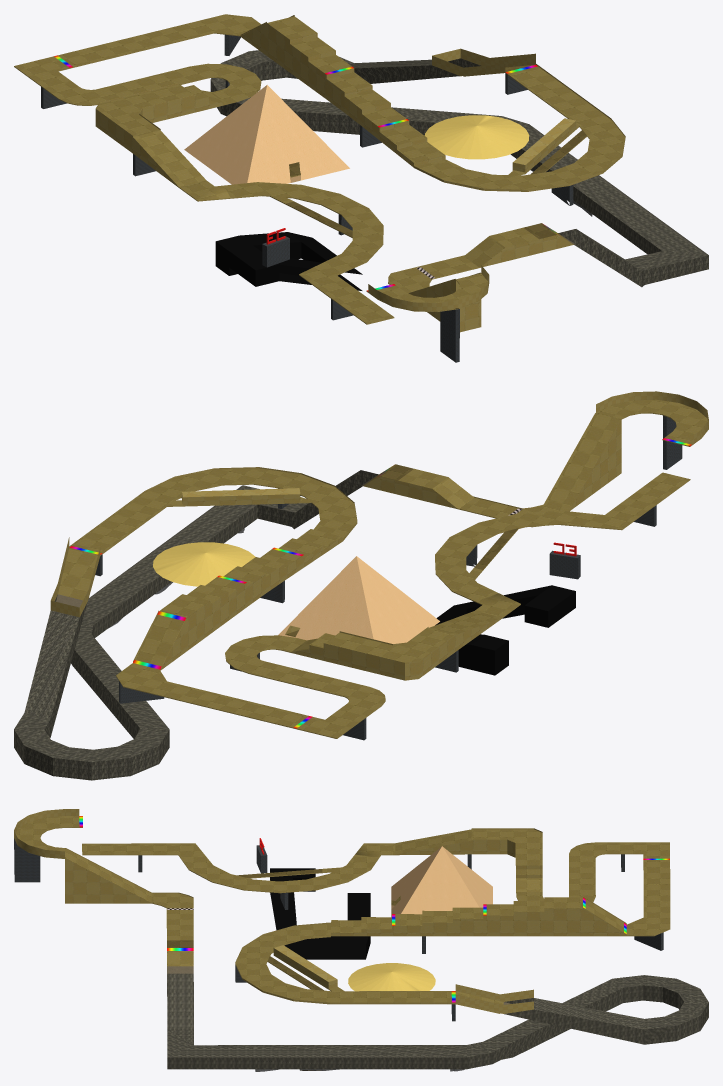
The picture shows the model from 3 angles, top to bottom: view 1: azimuth 30°, elevation 25°; view 2: azimuth 150°, elevation 25°; view 3: azimuth 270°, elevation 25°; orthographic projection. The views are drawn at different scales.
Parts seen in each view (by area): view 1: Exiled_Capsite-SKP--mat25.015, Exiled_Capsite-SKP--mat25.011, Exiled_Capsite-SKP--mat25.023, Exiled_Capsite-SKP--mat25.012, Exiled_Capsite-SKP--mat25.014, Exiled_Capsite-SKP--mat25.027, Exiled_Capsite-SKP--mat25.018, Exiled_Capsite-SKP--mat25, Exiled_Capsite-SKP--mat25.017, Exiled_Capsite-SKP--mat25.019; view 2: Exiled_Capsite-SKP--mat25.015, Exiled_Capsite-SKP--mat25.011, Exiled_Capsite-SKP--mat25.023, Exiled_Capsite-SKP--mat25.014, Exiled_Capsite-SKP--mat25.012, Exiled_Capsite-SKP--mat25.027, Exiled_Capsite-SKP--mat25.018, Exiled_Capsite-SKP--mat25, Exiled_Capsite-SKP--mat25.017, Exiled_Capsite-SKP--mat25.019, Exiled_Capsite-SKP--mat25.009; view 3: Exiled_Capsite-SKP--mat25.015, Exiled_Capsite-SKP--mat25.011, Exiled_Capsite-SKP--mat25.023, Exiled_Capsite-SKP--mat25.014, Exiled_Capsite-SKP--mat25.012, Exiled_Capsite-SKP--mat25.027, Exiled_Capsite-SKP--mat25, Exiled_Capsite-SKP--mat25.018, Exiled_Capsite-SKP--mat25.017, Exiled_Capsite-SKP--mat25.019.
Part boxes in pixels (x1,y1,x2,y2): Exiled_Capsite-SKP--mat25.015: (14,14,625,323); Exiled_Capsite-SKP--mat25.011: (210,50,708,287); Exiled_Capsite-SKP--mat25.023: (95,15,625,332); Exiled_Capsite-SKP--mat25.012: (184,85,349,184); Exiled_Capsite-SKP--mat25.014: (96,84,487,302); Exiled_Capsite-SKP--mat25.027: (215,232,458,308); Exiled_Capsite-SKP--mat25.018: (41,34,573,362); Exiled_Capsite-SKP--mat25: (424,115,529,159); Exiled_Capsite-SKP--mat25.017: (14,32,625,324); Exiled_Capsite-SKP--mat25.019: (286,130,586,239); Exiled_Capsite-SKP--mat25.015: (58,436,702,738); Exiled_Capsite-SKP--mat25.011: (14,470,378,780); Exiled_Capsite-SKP--mat25.023: (50,391,708,686); Exiled_Capsite-SKP--mat25.014: (325,399,707,662); Exiled_Capsite-SKP--mat25.012: (278,556,439,643); Exiled_Capsite-SKP--mat25.027: (435,585,575,675); Exiled_Capsite-SKP--mat25.018: (95,415,682,740); Exiled_Capsite-SKP--mat25: (153,542,255,586); Exiled_Capsite-SKP--mat25.017: (88,412,708,738); Exiled_Capsite-SKP--mat25.019: (181,464,518,632); Exiled_Capsite-SKP--mat25.009: (69,438,691,728); Exiled_Capsite-SKP--mat25.015: (82,842,670,1004); Exiled_Capsite-SKP--mat25.011: (167,973,708,1069); Exiled_Capsite-SKP--mat25.023: (14,809,670,1013); Exiled_Capsite-SKP--mat25.014: (15,816,542,908); Exiled_Capsite-SKP--mat25.012: (391,846,492,917); Exiled_Capsite-SKP--mat25.027: (270,868,370,1070); Exiled_Capsite-SKP--mat25: (348,963,435,991); Exiled_Capsite-SKP--mat25.018: (14,838,663,1021); Exiled_Capsite-SKP--mat25.017: (14,827,642,1013); Exiled_Capsite-SKP--mat25.019: (167,869,398,990).
Size of what is drawn, in the model's own units: 49943 by 16460 by 91212.
Materials: 29 (23 with a texture image).
